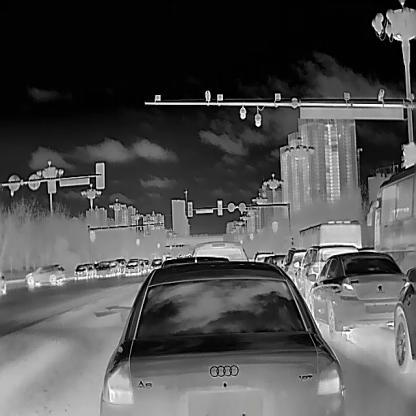car: (97, 260, 345, 415), (305, 250, 409, 342), (364, 161, 416, 273), (293, 243, 360, 301), (394, 265, 416, 372), (297, 219, 361, 255), (277, 246, 312, 280), (192, 240, 248, 260), (24, 263, 66, 285), (94, 259, 113, 277), (124, 258, 142, 276), (263, 253, 286, 265), (73, 264, 90, 280), (252, 249, 273, 261), (83, 262, 97, 278), (115, 257, 128, 274), (108, 259, 121, 276), (149, 258, 163, 272), (137, 258, 146, 273)
